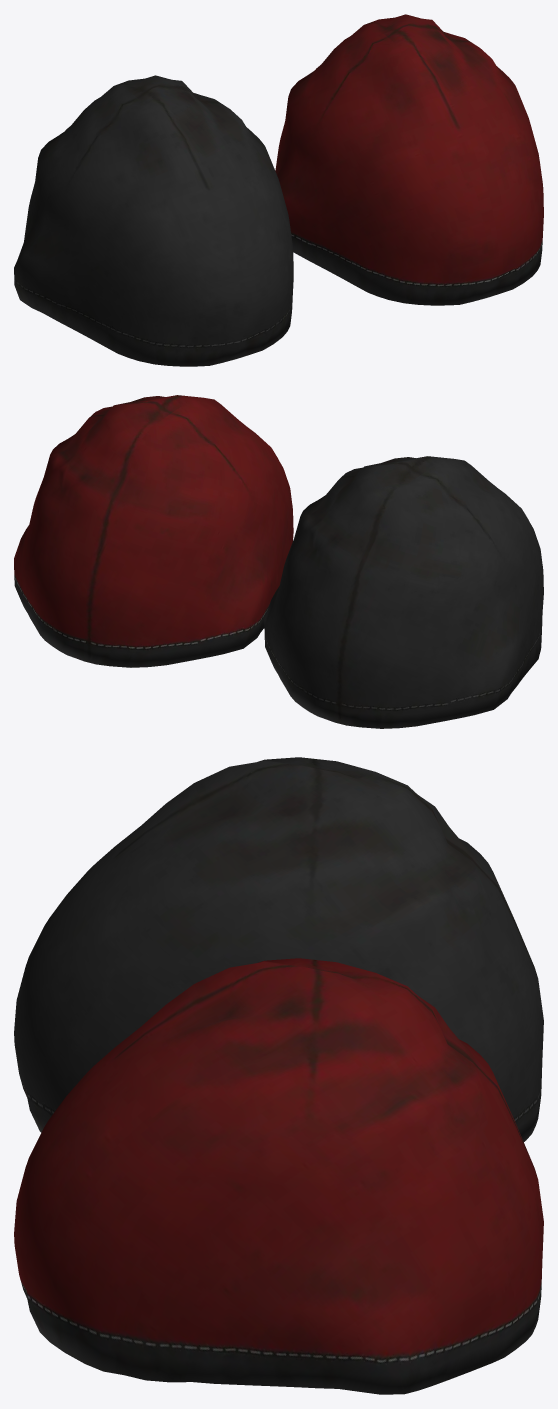
Rendered from hat-transformed.glb.
The picture shows the model from 3 angles, top to bottom: view 1: azimuth 30°, elevation 25°; view 2: azimuth 150°, elevation 25°; view 3: azimuth 270°, elevation 25°; orthographic projection. The views are drawn at different scales.
Parts seen in each view (by area): view 1: Object_2, Object_3; view 2: Object_2, Object_3; view 3: Object_3, Object_2.
Part boxes in pixels (x1,y1,x2,y2): Object_2: (14, 75, 293, 366); Object_3: (275, 14, 543, 305); Object_2: (264, 456, 543, 728); Object_3: (14, 395, 293, 667); Object_3: (14, 958, 543, 1394); Object_2: (14, 757, 543, 1141).
Size of the model in its own units: 0.3421 by 0.142 by 0.1952.
2 materials, 2 textured.
